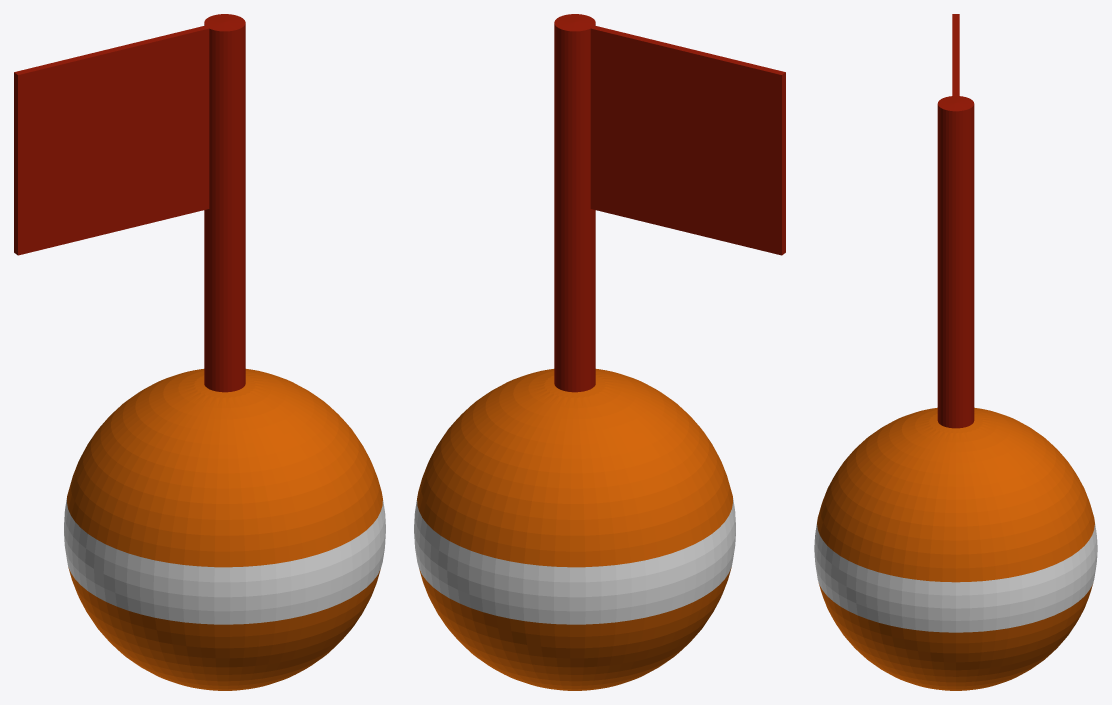
The model's file is finish_marker.dae.
The picture shows the model from 3 angles, left to right: view 1: azimuth 30°, elevation 25°; view 2: azimuth 150°, elevation 25°; view 3: azimuth 270°, elevation 25°; orthographic projection. The views are drawn at different scales.
Visible parts, largest first — view 1: Sphere; view 2: Sphere; view 3: Sphere.
Boxes of the visible parts, left/top/right/bottom form: Sphere: left=14, top=14, right=385, bottom=690; Sphere: left=414, top=14, right=785, bottom=690; Sphere: left=814, top=14, right=1097, bottom=690.
Size of the model in its own units: 2.47 by 1.98 by 4.42.
